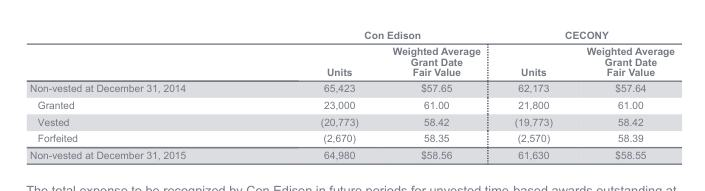table: (29, 28, 674, 159)
table column: (29, 28, 252, 159), (252, 28, 374, 159), (374, 28, 496, 159), (568, 28, 674, 159), (496, 28, 568, 159)
table column header: (29, 28, 674, 79)
table row: (29, 42, 674, 79), (29, 79, 674, 96), (29, 112, 674, 129), (29, 96, 674, 112), (29, 129, 674, 145), (29, 28, 674, 42), (29, 145, 674, 159)
table spanning cell: (252, 28, 496, 42), (496, 28, 674, 42)
